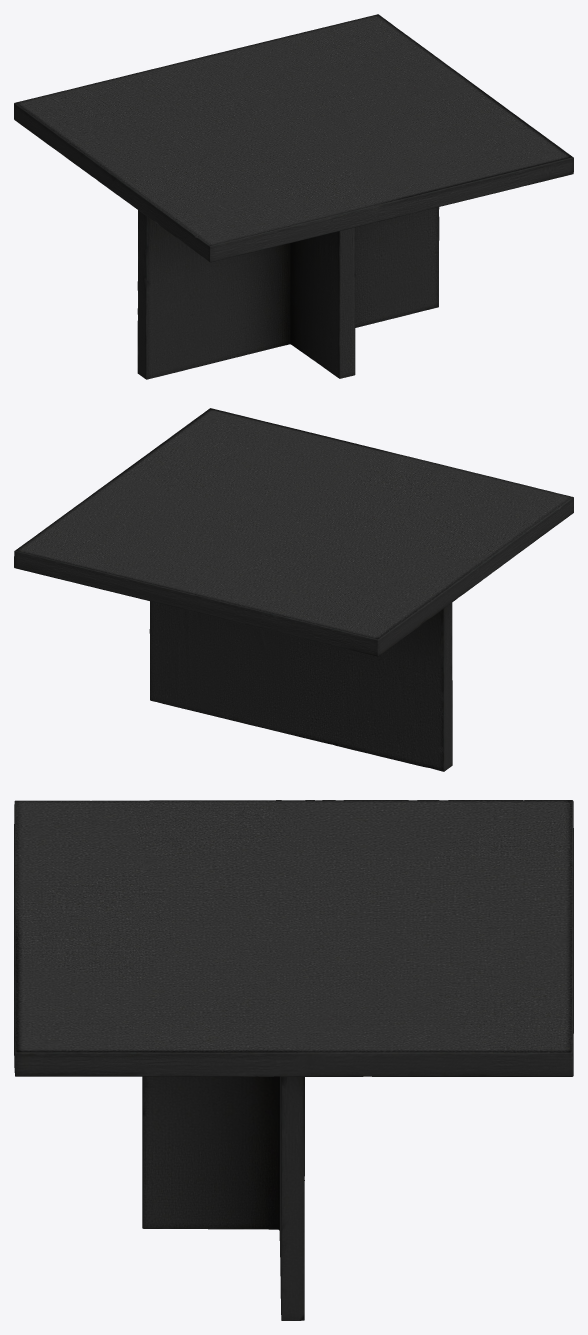
The model's file is table.glb.
3 renders of one model, top to bottom at view 1: azimuth 30°, elevation 25°; view 2: azimuth 150°, elevation 25°; view 3: azimuth 270°, elevation 25°, orthographic. The views are drawn at different scales.
Visible parts, largest first — view 1: tripo_node_2f9b4fac-807a-4e00-a2dd-47a5b8c4323c; view 2: tripo_node_2f9b4fac-807a-4e00-a2dd-47a5b8c4323c; view 3: tripo_node_2f9b4fac-807a-4e00-a2dd-47a5b8c4323c.
Boxes of the visible parts, x1,y1,x2,y2 form: tripo_node_2f9b4fac-807a-4e00-a2dd-47a5b8c4323c: [14, 14, 573, 379]; tripo_node_2f9b4fac-807a-4e00-a2dd-47a5b8c4323c: [14, 408, 573, 771]; tripo_node_2f9b4fac-807a-4e00-a2dd-47a5b8c4323c: [14, 800, 573, 1320].
Bounding box in the file's own units: 0.9815 × 0.5367 × 0.9155.
Materials: 1 (1 with a texture image).
